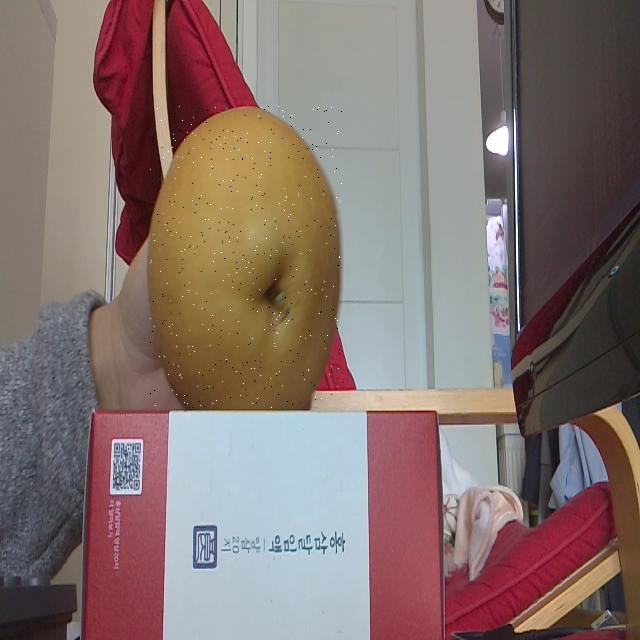pear: (150, 106, 344, 408)
